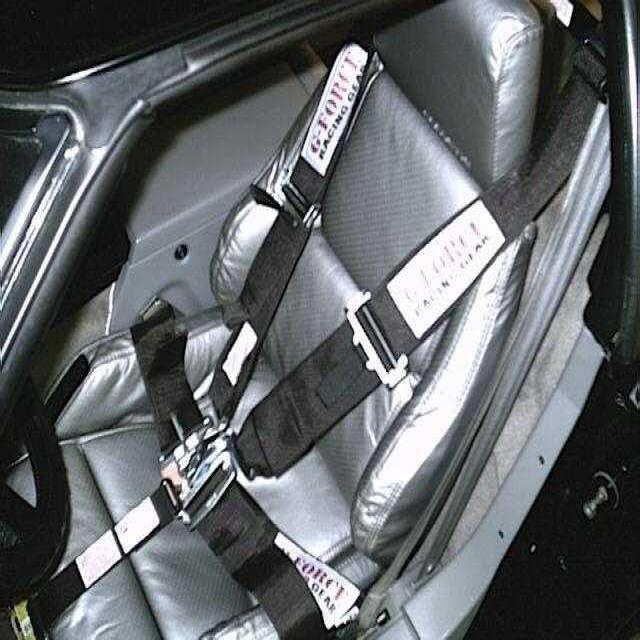seatbelt: (248, 118, 600, 490), (136, 39, 405, 434)
